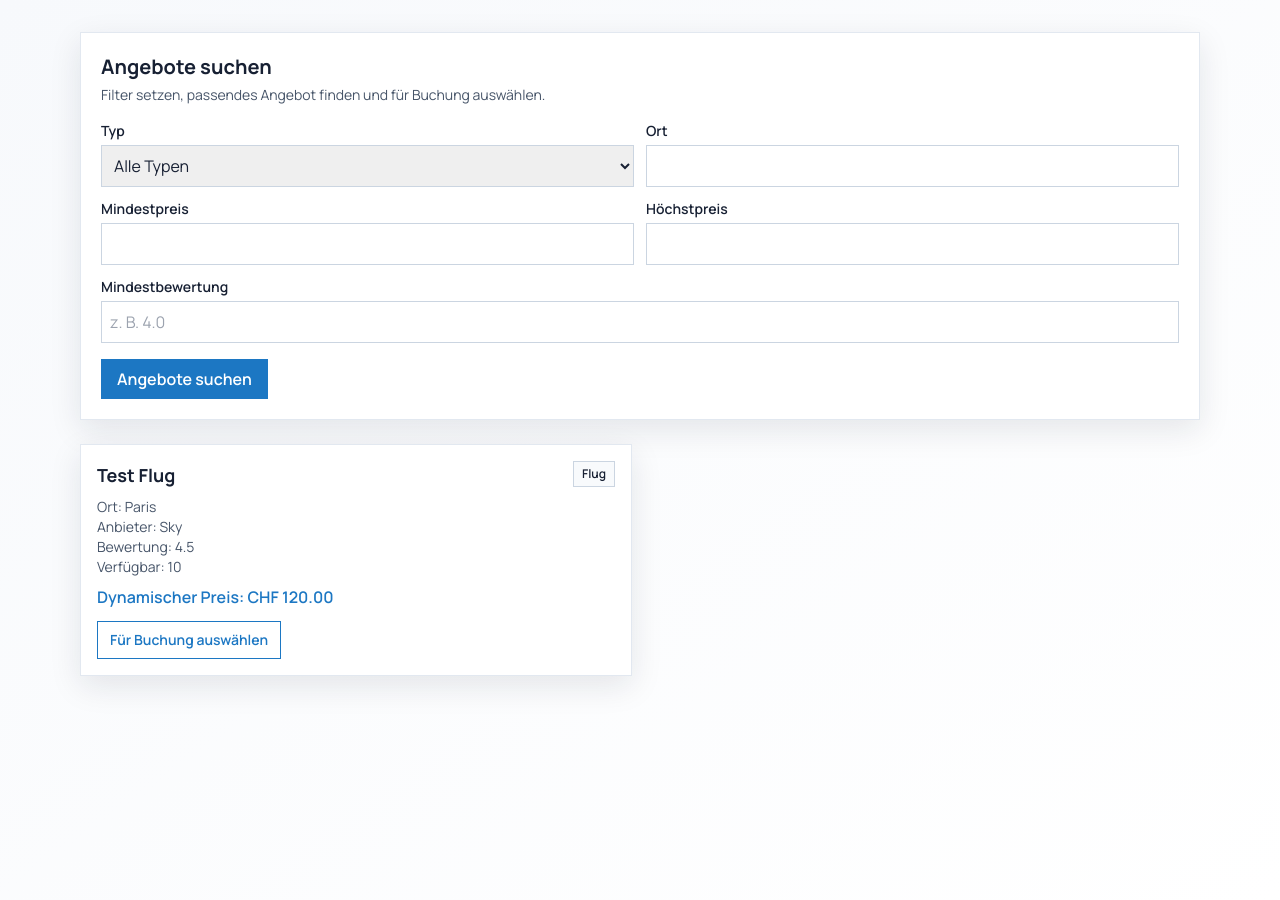
OffersPage › opens booking sidebar after selecting an offer
Click the button "Für Buchung auswählen". click: (189, 640)
box: top-left (97, 621), bottom-right (281, 659)
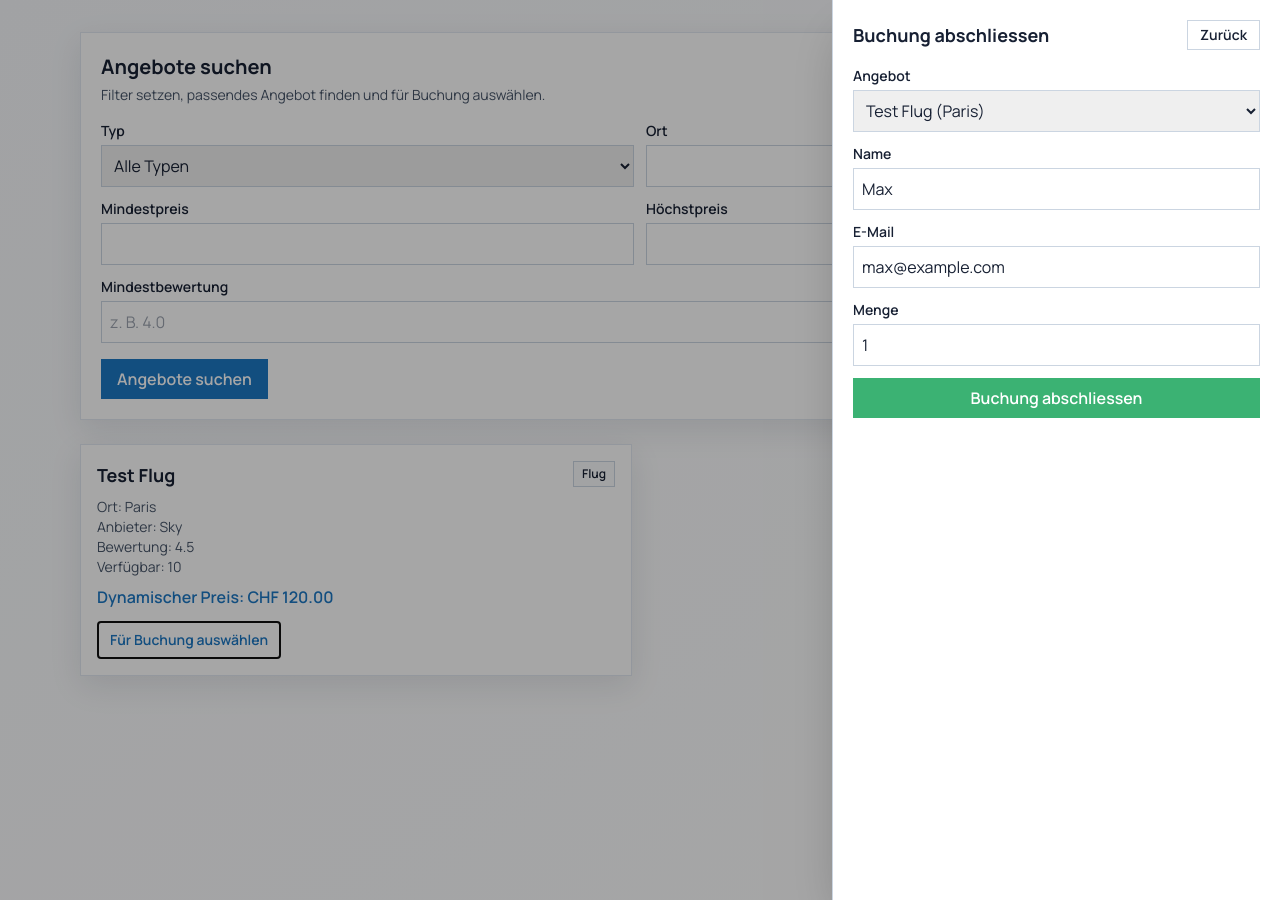
Expected: the heading "Buchung abschliessen" is shown, top-left (853, 21), bottom-right (1049, 49)
Expected: the button "Zurück" is shown, top-left (1187, 20), bottom-right (1260, 50)
